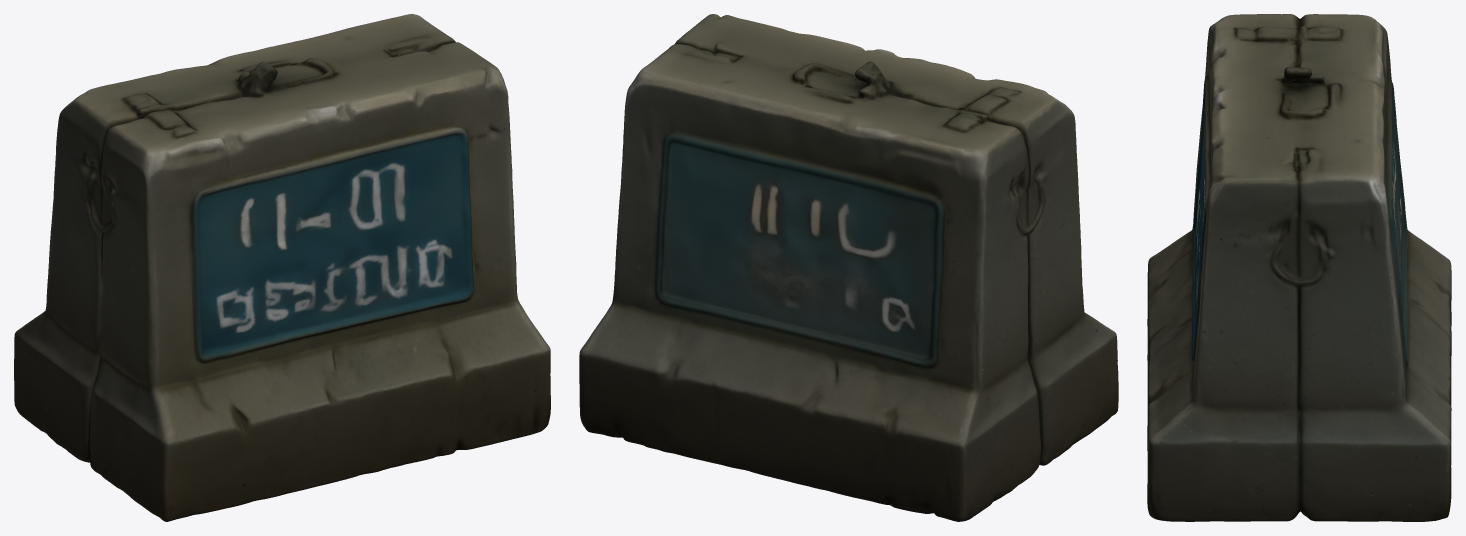
The model's file is sector_sign_board.glb.
The picture shows the model from 3 angles, left to right: view 1: azimuth 30°, elevation 25°; view 2: azimuth 150°, elevation 25°; view 3: azimuth 270°, elevation 25°; orthographic projection.
Visible parts, largest first — view 1: world; view 2: world; view 3: world.
Part boxes in pixels (x1,y1,x2,y2): world: [14, 14, 550, 521]; world: [579, 14, 1118, 521]; world: [1147, 14, 1451, 521].
Size of the model in its own units: 1 by 0.8805 by 0.6858.
Materials: 1 (1 with a texture image).
